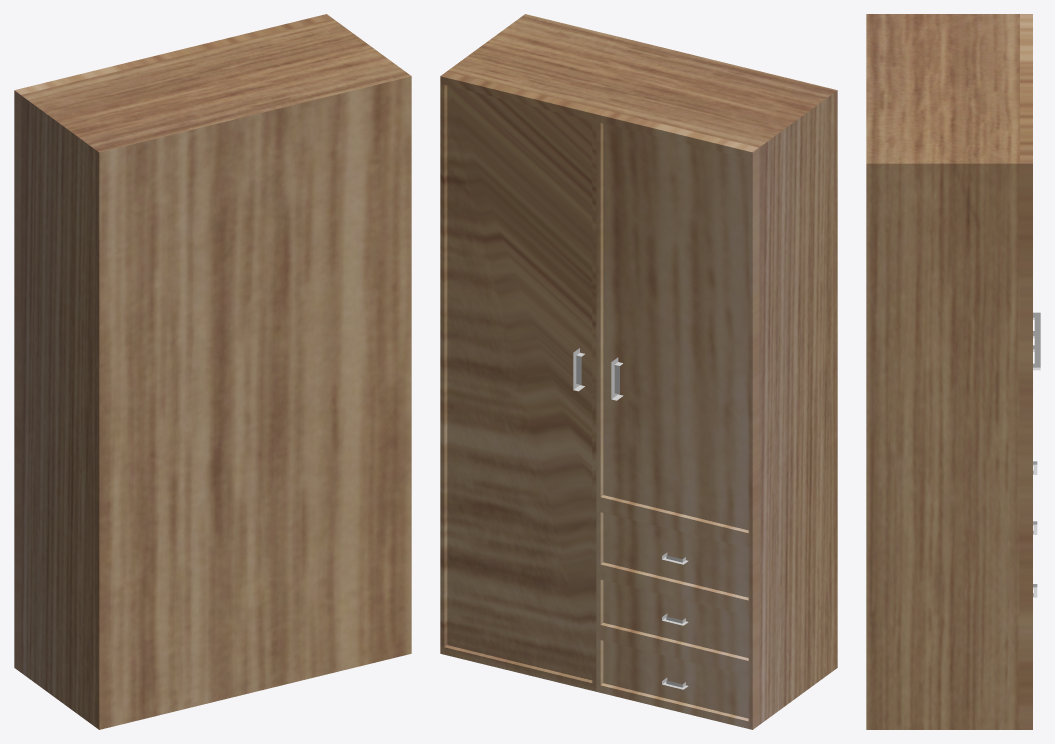
Rendered from kast.glb.
3 renders of one model, left to right at view 1: azimuth 30°, elevation 25°; view 2: azimuth 150°, elevation 25°; view 3: azimuth 270°, elevation 25°, orthographic.
Parts seen in each view (by area): view 1: Cube; view 2: Cube; view 3: Cube.
Part boxes in pixels (left/top/right/bottom): Cube: left=14, top=14, right=411, bottom=729; Cube: left=440, top=14, right=837, bottom=729; Cube: left=866, top=14, right=1032, bottom=729.
Size of the model in its own units: 2.42 by 4.28 by 1.2.
1 material, 1 textured.
